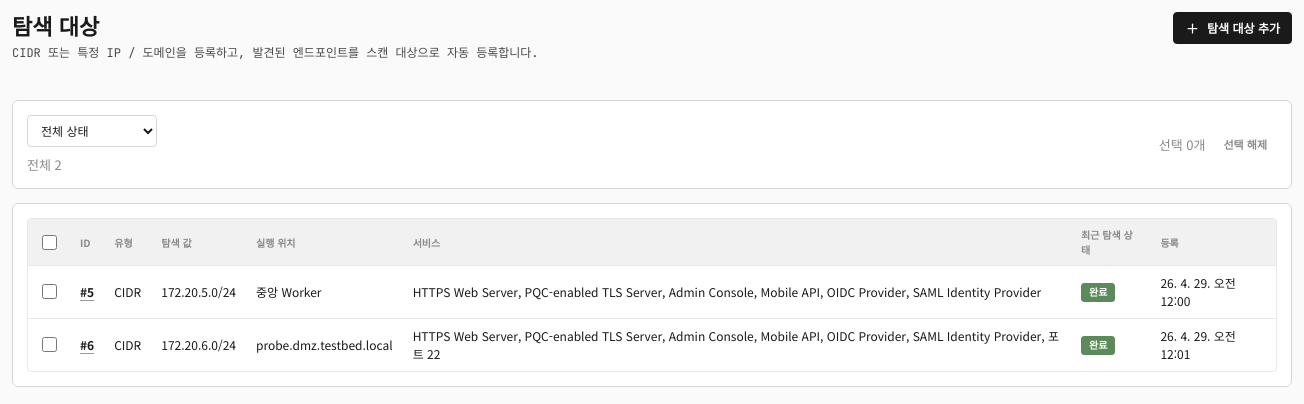
Scenario: DiscoveriesView › toggles Discovery #6 selection from the row checkbox
Expected: the text "probe.dmz.testbed.local" is shown, [246, 318, 403, 371]
Expected: the text "선택 0개" is shown, [1159, 134, 1206, 154]
Step 1. Click the checkbox named "탐색 대상 #6 선택" → click(50, 344), box [42, 337, 57, 352]
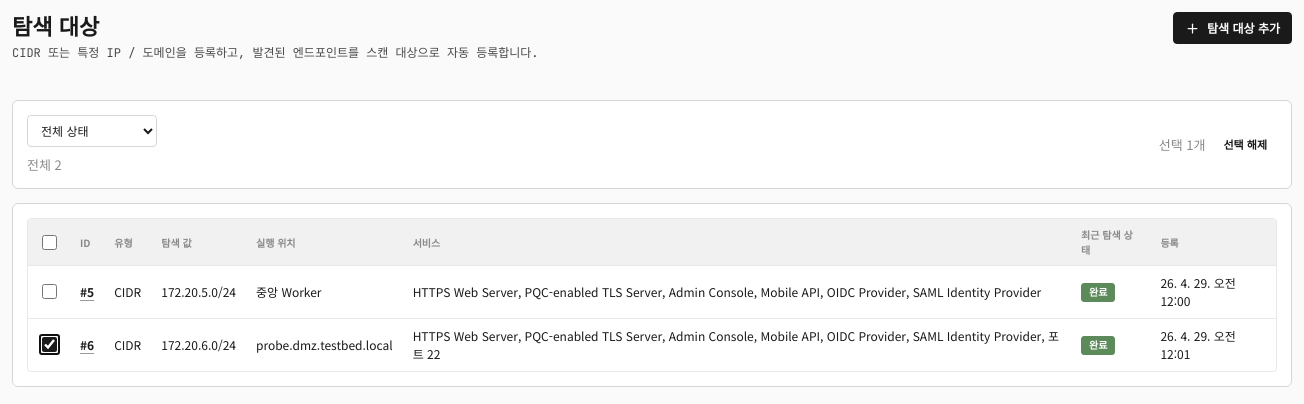
Result: the checkbox named "탐색 대상 #6 선택" is checked
Result: the text "선택 1개" is shown at [1159, 134, 1206, 154]
Step 2. Click the checkbox named "탐색 대상 #6 선택" → click(50, 344), box [42, 337, 57, 352]
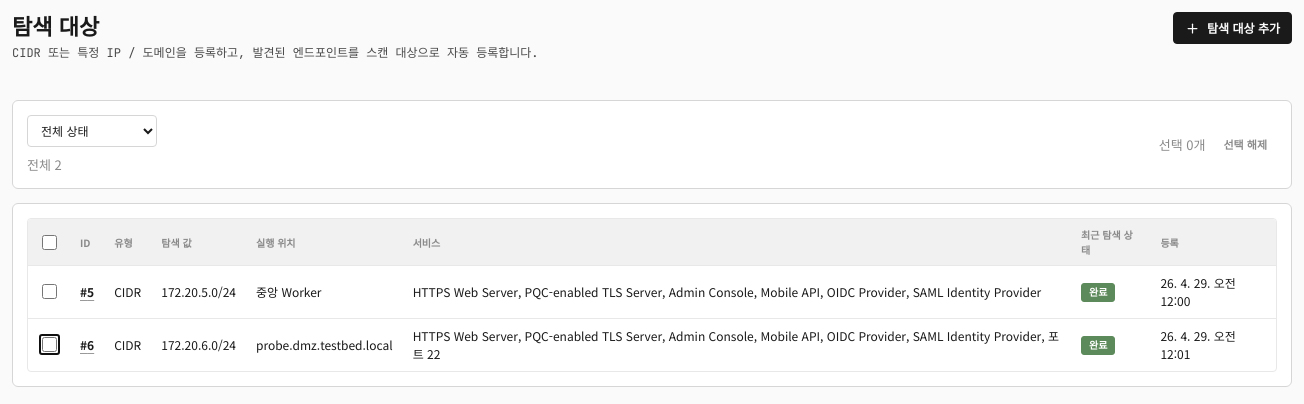
Result: the checkbox named "탐색 대상 #6 선택" is not checked at [42, 337, 57, 352]
Result: the text "선택 0개" is shown at [1159, 134, 1206, 154]
